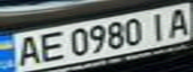0: (121, 15, 148, 46), (66, 25, 90, 56)
8: (106, 18, 127, 51)
9: (87, 21, 109, 54)
A: (9, 33, 45, 69), (160, 4, 193, 38)
E: (33, 29, 66, 64)
I: (142, 9, 172, 42)
